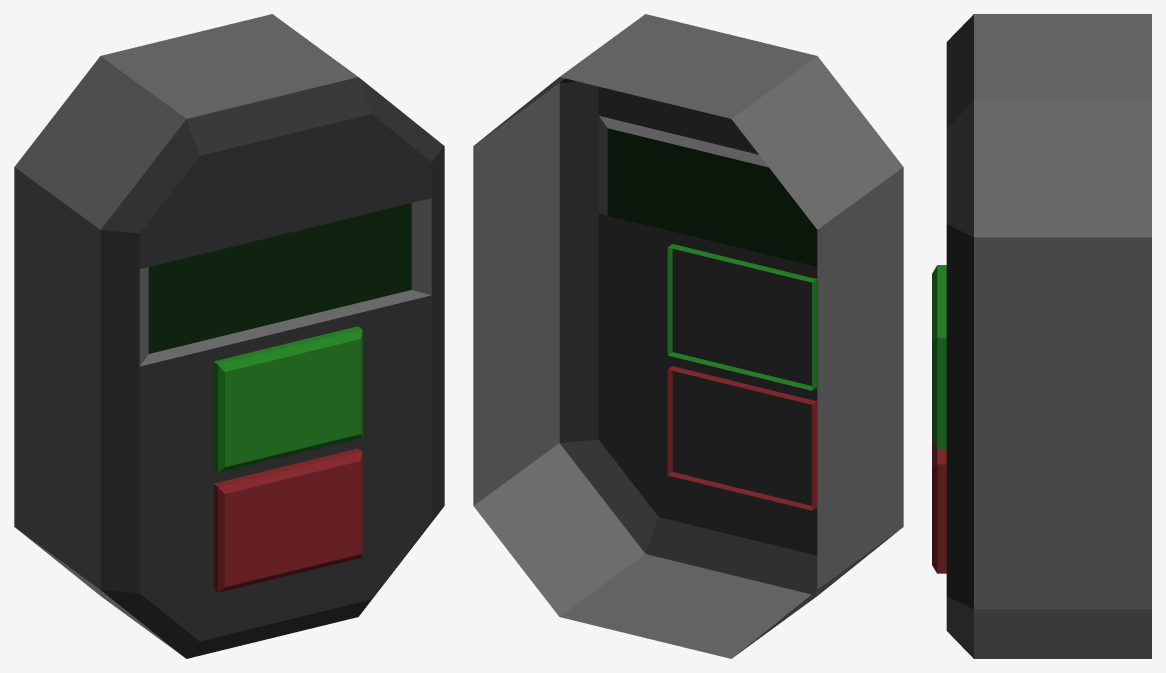
The model's file is Exit.fbx.
3 renders of one model, left to right at view 1: azimuth 30°, elevation 25°; view 2: azimuth 150°, elevation 25°; view 3: azimuth 270°, elevation 25°, orthographic. The views are drawn at different scales.
Parts seen in each view (by area): view 1: Exit; view 2: Exit; view 3: Exit.
Boxes of the visible parts, box(x1,y1,x2,y2) form: Exit: box(14, 14, 444, 658); Exit: box(473, 14, 903, 658); Exit: box(932, 14, 1151, 658).
Size of the model in its own units: 40 by 60 by 21.42.
